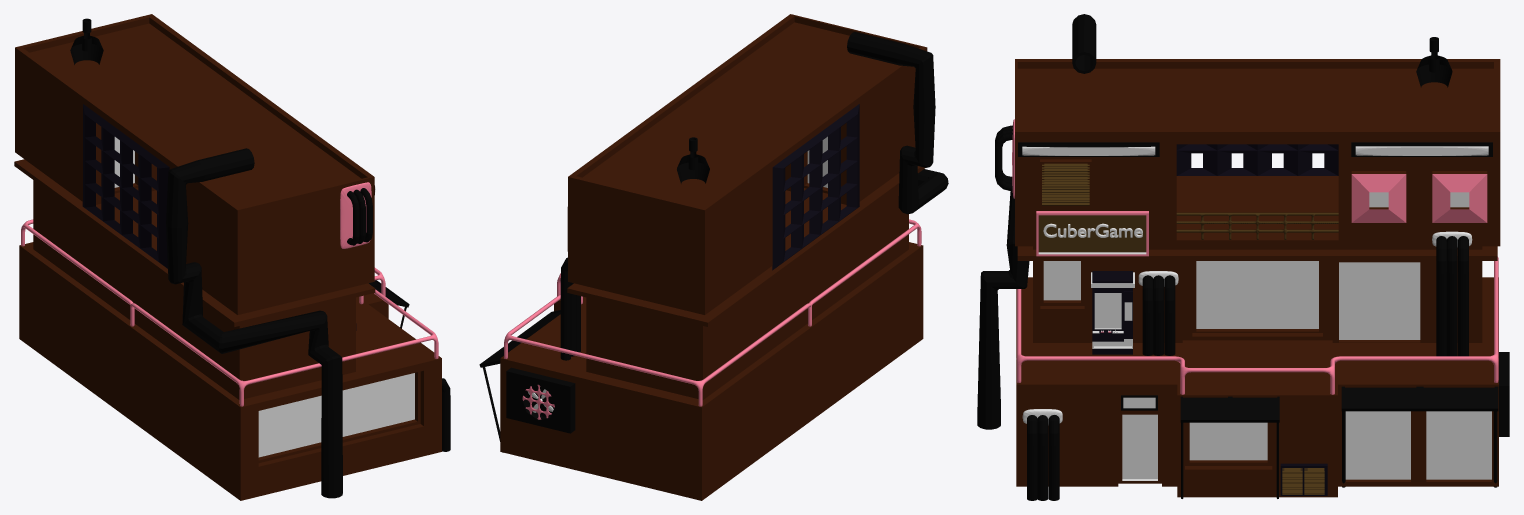
The model's file is CuberHouse.fbx.
3 views of the same model, side by side, from view 1: azimuth 30°, elevation 25°; view 2: azimuth 150°, elevation 25°; view 3: azimuth 270°, elevation 25° (orthographic). The views are drawn at different scales.
Visible parts, largest first — view 1: Plane.001, Plane.028, Plane.002, Plane.007, Plane.024, Circle, Plane.015; view 2: Plane.001, Plane.002, Plane.028, Cube.003, Plane.007, Plane.018, Plane.006, Circle; view 3: Plane.001, Plane.028, Plane.027, Plane.006, Plane.002, Plane.007, Cube.004, Plane.005, Cube.001, Cube.002, Plane.004, Plane.008 (+14 smaller).
Part boxes in pixels (x1,y1,x2,y2): Plane.001: (14,14,441,500); Plane.028: (166,148,342,498); Plane.002: (82,104,169,268); Plane.007: (21,219,438,406); Plane.024: (340,182,371,248); Circle: (70,18,103,64); Plane.015: (442,378,450,451); Plane.001: (500,14,927,500); Plane.002: (772,104,859,270); Plane.028: (847,32,948,214); Cube.003: (506,367,575,433); Plane.007: (504,219,921,406); Plane.018: (560,257,570,360); Plane.006: (479,310,560,452); Circle: (677,137,709,183); Plane.001: (1015,59,1500,497); Plane.028: (977,14,1096,429); Plane.027: (1036,211,1148,256); Plane.006: (1341,386,1498,487); Plane.002: (1176,144,1338,175); Plane.007: (1016,257,1498,394); Cube.004: (1091,271,1134,354); Plane.005: (1180,396,1279,498); Cube.001: (1018,142,1159,156); Cube.002: (1351,142,1492,156); Plane.004: (1042,163,1089,205); Plane.008: (1176,212,1338,239).
Size of the model in its own units: 1281 by 1440 by 1891.
